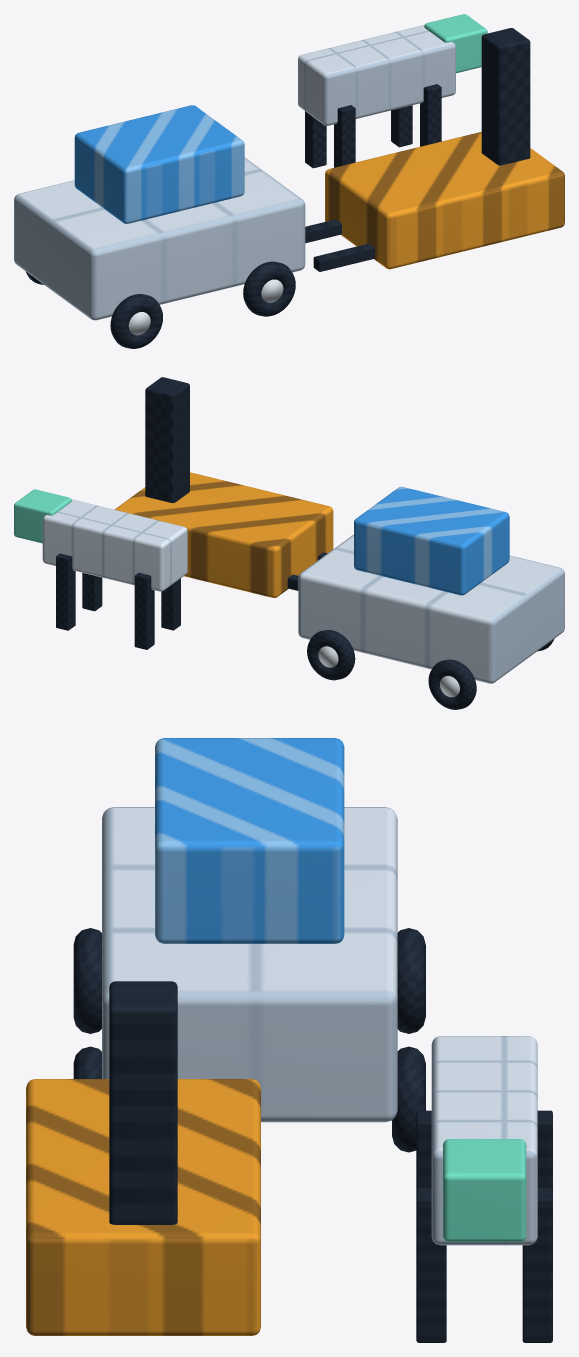
The model's file is fleet-robots.glb.
The picture shows the model from 3 angles, top to bottom: view 1: azimuth 30°, elevation 25°; view 2: azimuth 150°, elevation 25°; view 3: azimuth 270°, elevation 25°; orthographic projection. The views are drawn at different scales.
Parts seen in each view (by area): view 1: seer_amr_base, agv_base, seer_amr_top, dog_body, agv_tower, dog_head, amr_wheel_tire.003, amr_wheel_tire.001, dog_leg.001, dog_leg.003, dog_leg, agv_forks_right (+2 smaller); view 2: seer_amr_base, agv_base, seer_amr_top, dog_body, agv_tower, dog_head, amr_wheel_tire, amr_wheel_tire.002, dog_leg, dog_leg.002, dog_leg.001, dog_leg.003; view 3: seer_amr_base, agv_base, seer_amr_top, agv_tower, dog_body, dog_head, dog_leg.003, dog_leg.002, amr_wheel_tire.001, amr_wheel_tire, amr_wheel_tire.002, dog_leg (+2 smaller).
Part boxes in pixels (x1,y1,x2,y2): seer_amr_base: (14,157,305,320); agv_base: (325,132,564,269); seer_amr_top: (74,105,244,223); dog_body: (298,25,455,125); agv_tower: (481,28,530,165); dog_head: (424,14,487,73); amr_wheel_tire.003: (243,261,295,316); amr_wheel_tire.001: (110,294,162,348); dog_leg.001: (334,105,355,167); dog_leg.003: (420,84,441,146); dog_leg: (305,111,326,168); agv_forks_right: (313,243,374,271); seer_amr_base: (298,534,564,683); agv_base: (115,472,333,597); seer_amr_top: (354,486,509,595); dog_body: (42,499,187,591); agv_tower: (145,377,189,503); dog_head: (14,489,71,543); amr_wheel_tire: (428,659,476,709); amr_wheel_tire.002: (307,630,355,680); dog_leg: (134,572,154,649); dog_leg.002: (56,553,75,630); dog_leg.001: (161,578,180,630); dog_leg.003: (82,573,102,611); seer_amr_base: (102,807,397,1122); agv_base: (26,1079,260,1335); seer_amr_top: (155,738,344,943); agv_tower: (109,981,177,1224); dog_body: (431,1036,537,1245); dog_head: (443,1139,526,1241); dog_leg.003: (416,1187,446,1342); dog_leg.002: (522,1187,552,1342); amr_wheel_tire.001: (73,928,101,1033); amr_wheel_tire: (397,928,425,1033); amr_wheel_tire.002: (392,1046,425,1152); dog_leg: (537,1110,552,1189).
Bounding box in the file's own units: 2.73 × 1.1 × 1.39.
6 materials, 4 textured.
